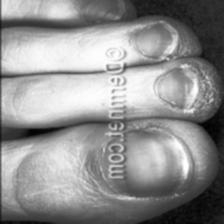Unclassified: (183, 60, 220, 116), (170, 23, 196, 57)
